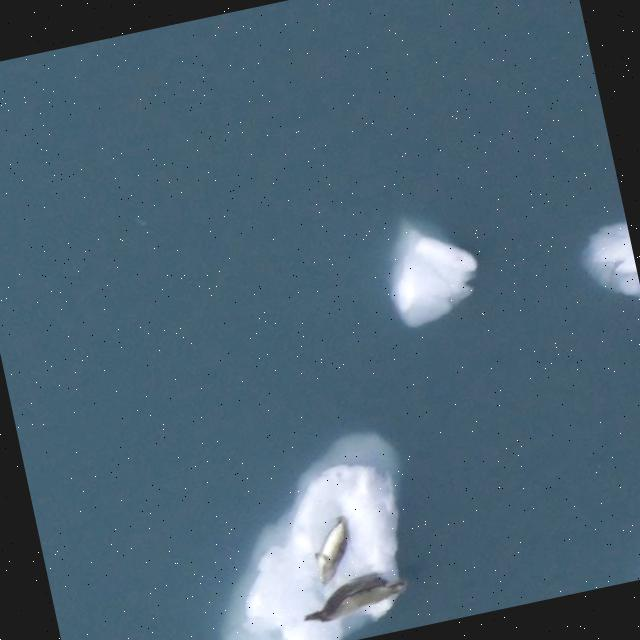seal: (302, 575, 405, 623), (315, 515, 349, 584)
